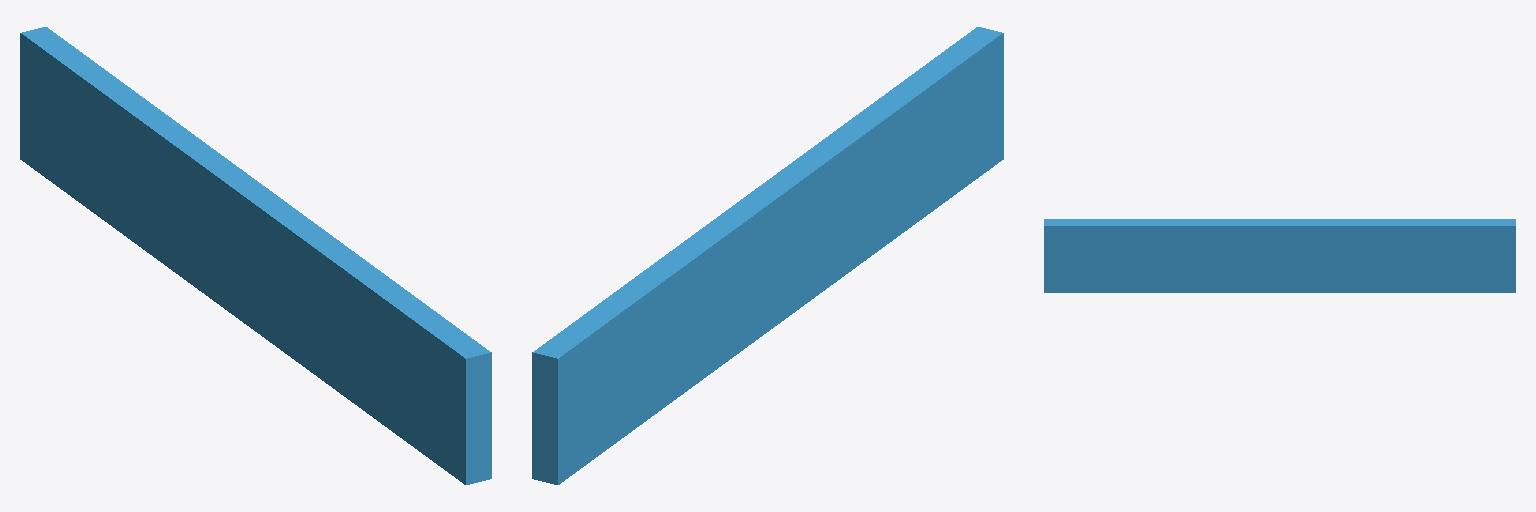
The robot description file, URDF, robot "box_94":
<?xml version="1.0" encoding="utf-8"?>    
    
    <robot name="box_94">
        <link name="box_94">    
            <fem>
                <origin rpy="0.0 0.0 0.0" xyz="0 0 0" />
                <density value="100" />
                <youngs value="9614"/>
                <poissons value="0.3" />
                <damping value="0.0" />
                <attachDistance value="0.01" />
                <tetmesh filename="[local-path]/sim_data/Custom/Custom_mesh/multi_boxes_10kPa/box_94.tet" />
                <scale value="0.5"/>
            </fem>
        </link>

        <link name="fix_frame">
            <visual>
                <origin xyz="-10.053607672806308 0.0 0.0"/>              
                <geometry>
                    <box size="0.005 0.15 0.023553688484719296"/>
                </geometry>
            </visual>
            <collision>
                <origin xyz="-0.0536076728063086 0.0 0.0"/>              
                <geometry>
                    <box size="0.005 0.15 0.023553688484719296"/>
                </geometry>
            </collision>
            <inertial>
                <mass value="500000"/>
                <inertia ixx="0.05" ixy="0.0" ixz="0.0" iyy="0.05" iyz="0.0" izz="0.05"/>
            </inertial>
        </link>
        
        <joint name = "attach" type = "fixed">
            <origin xyz = "0.0 0.0 0.0" rpy = "0 0 0"/>
            <parent link ="box_94"/>
            <child link = "fix_frame"/>
        </joint>  




    </robot>
    

--- Facts derived from the render (not from the file) ---
Views: 3 orthographic renders of the robot side by side, from view 1: azimuth 30°, elevation 25°; view 2: azimuth 150°, elevation 25°; view 3: azimuth 270°, elevation 25°.
Robot: box_94 — 2 links, 1 joints (1 fixed); root link box_94; default pose: every joint at zero.
Links seen in each view (by area): view 1: fix_frame; view 2: fix_frame; view 3: fix_frame.
Boxes of the visible links, <box> form: fix_frame: <box>20,27,491,484</box>; fix_frame: <box>532,27,1003,484</box>; fix_frame: <box>1044,219,1515,292</box>.
Size in the robot's own frame: 0.005 by 0.15 by 0.0236 metres.
Geometry: primitives only (box / cylinder / sphere), no mesh files.